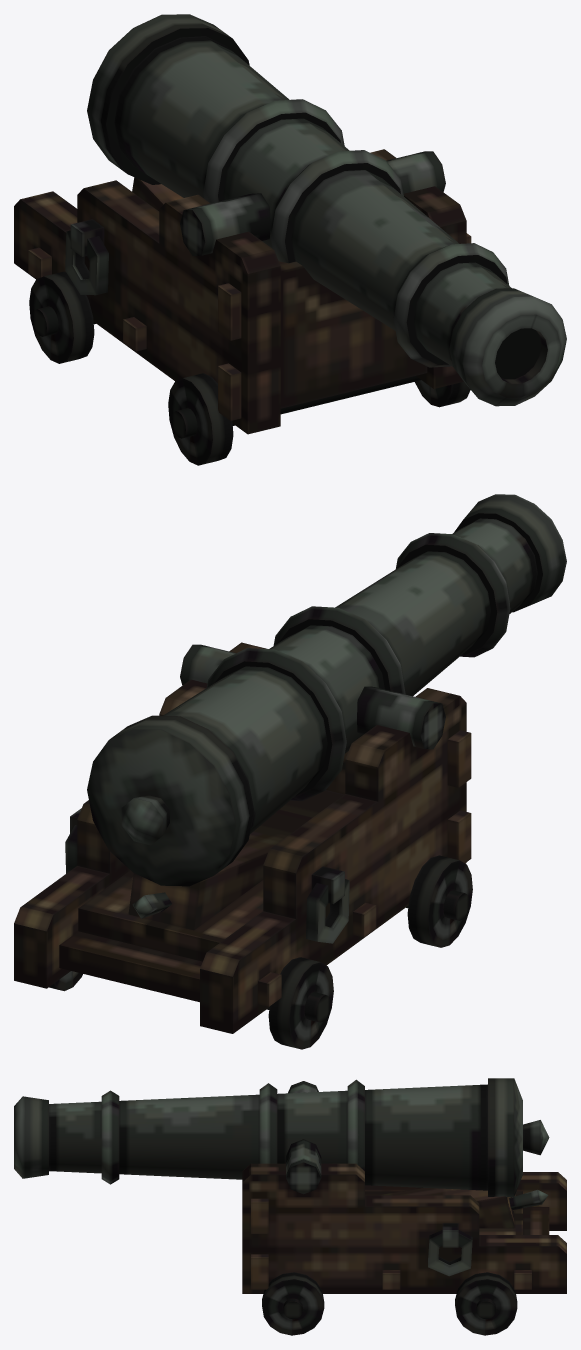
Rendered from EnvObjMD_Ship_Cannon_A.FBX.
The picture shows the model from 3 angles, top to bottom: view 1: azimuth 30°, elevation 25°; view 2: azimuth 150°, elevation 25°; view 3: azimuth 270°, elevation 25°; orthographic projection. The views are drawn at different scales.
Visible parts, largest first — view 1: EnvObjMD_Ship_Cannon_A; view 2: EnvObjMD_Ship_Cannon_A; view 3: EnvObjMD_Ship_Cannon_A.
Part boxes in pixels (x1,y1,x2,y2): EnvObjMD_Ship_Cannon_A: (14, 14, 566, 465); EnvObjMD_Ship_Cannon_A: (14, 494, 566, 1049); EnvObjMD_Ship_Cannon_A: (14, 1078, 566, 1335).
Size of the model in its own units: 128 by 131 by 315.
